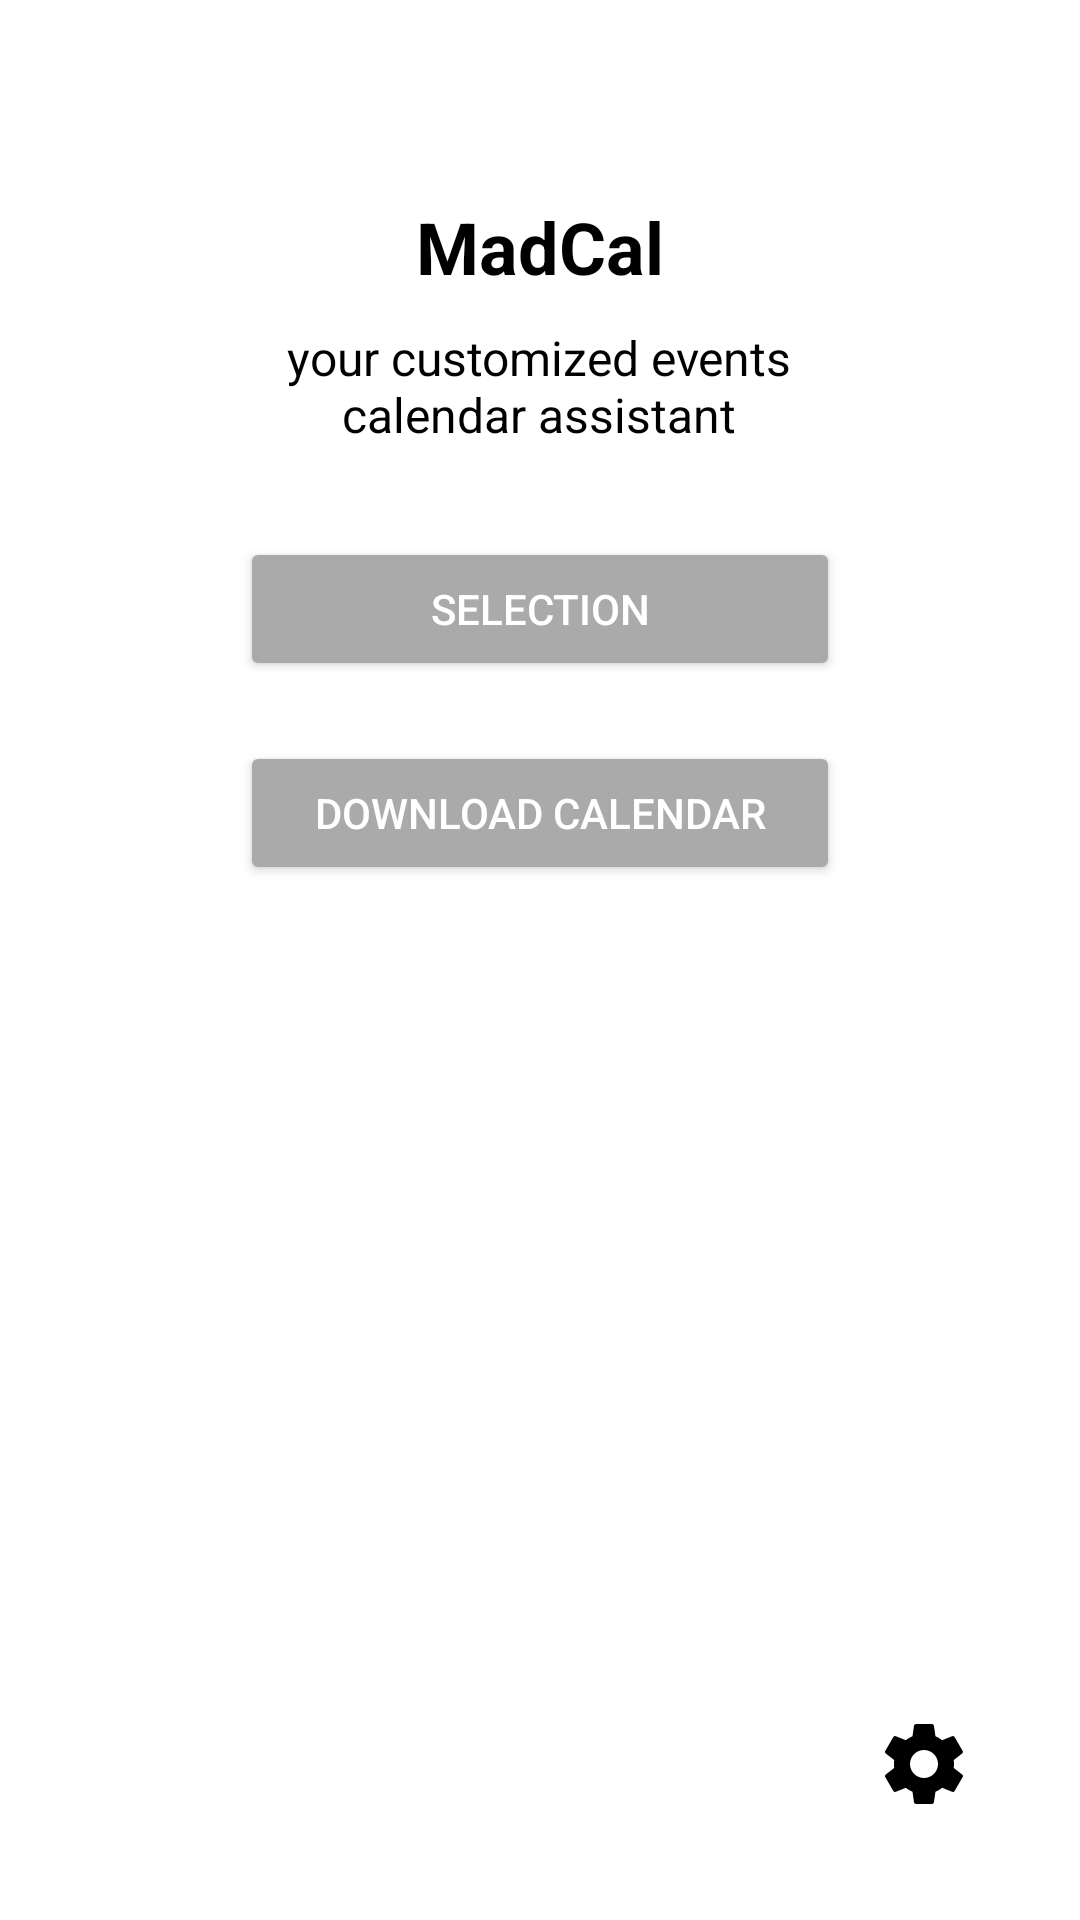

Named icons in this screenshot (1080×1920) and their centers, point (x, y):
settings: point (924, 1764)
